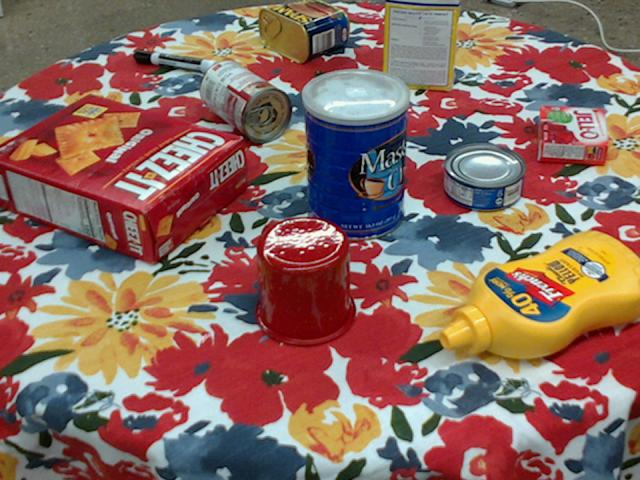cracker_box: (0, 94, 247, 262)
gelatin_box: (537, 106, 606, 166)
large_marker: (134, 49, 217, 73)
master_chef_can: (301, 68, 408, 241)
mug: (253, 215, 356, 346)
mustard_bottle: (441, 227, 639, 356)
potted_meat_can: (258, 0, 349, 62)
sugar_box: (381, 0, 461, 91)
tomato_soup_can: (198, 59, 292, 142)
tuna_fish_can: (444, 143, 527, 211)
